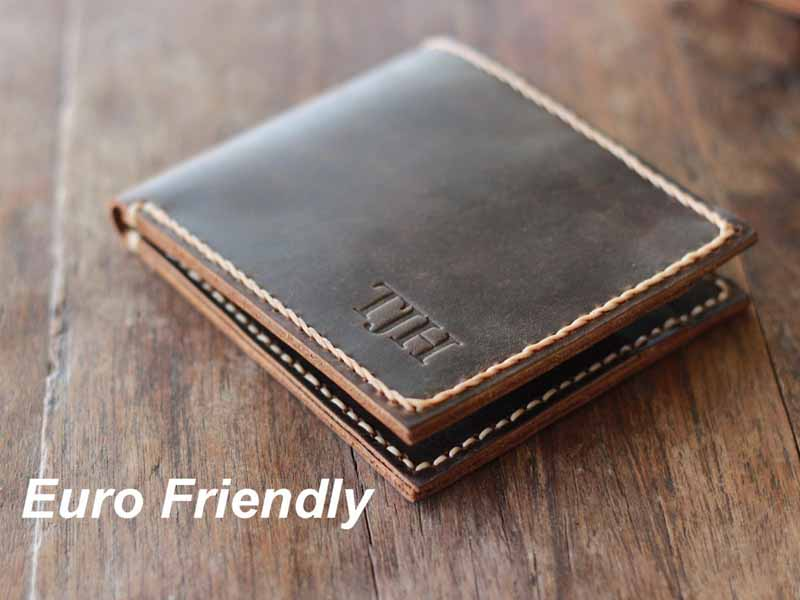monedero: (105, 31, 765, 510)
